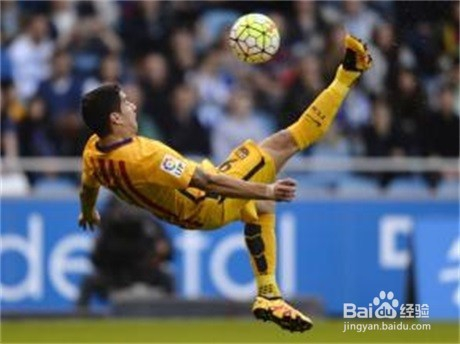football: (230, 14, 280, 64)
